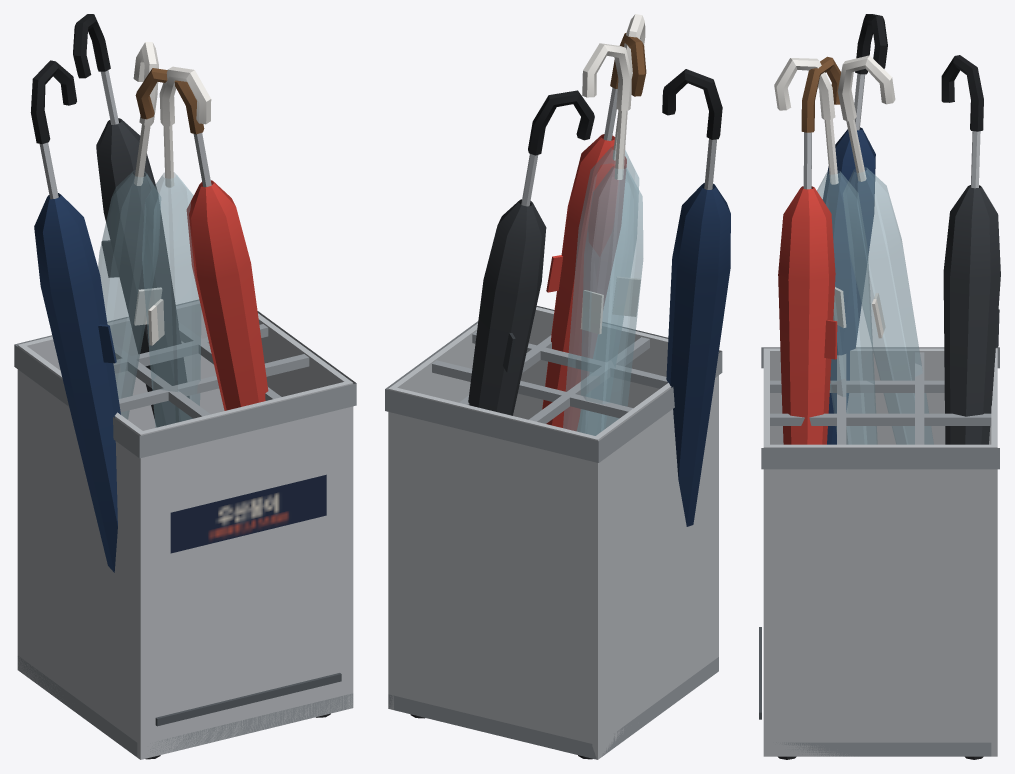
File: SC_Fix_Umbrella_Stand.gltf
3 renders of one model, left to right at view 1: azimuth 30°, elevation 25°; view 2: azimuth 150°, elevation 25°; view 3: azimuth 270°, elevation 25°, orthographic. The views are drawn at different scales.
Visible parts, largest first — view 1: SC_Fix_Umbrella_Stand; view 2: SC_Fix_Umbrella_Stand; view 3: SC_Fix_Umbrella_Stand.
Part boxes in pixels (x1=…): SC_Fix_Umbrella_Stand: x1=14, y1=14, x2=356, y2=759; SC_Fix_Umbrella_Stand: x1=385, y1=14, x2=730, y2=759; SC_Fix_Umbrella_Stand: x1=759, y1=14, x2=1000, y2=759.
Size of the model in its own units: 0.3821 by 0.9043 by 0.3102.
3 materials, 3 textured.
